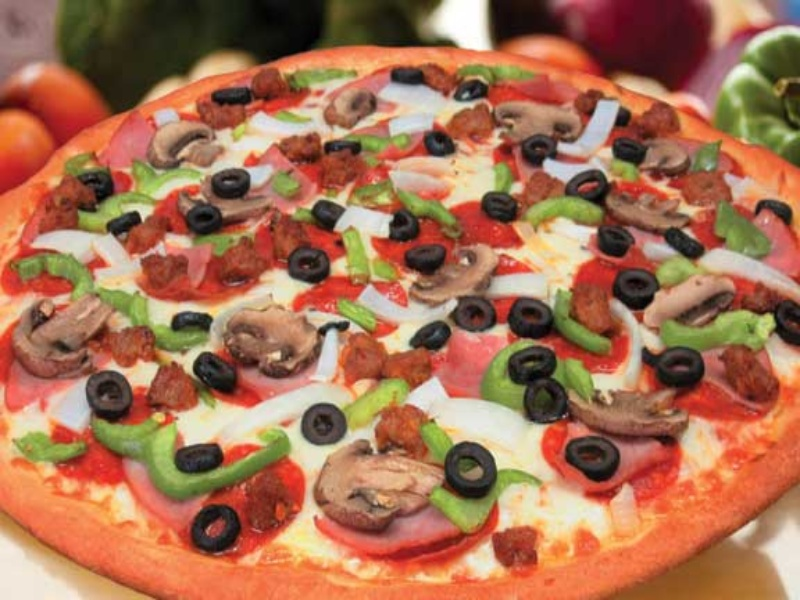olive noir: (440, 434, 499, 501), (560, 438, 628, 484), (650, 345, 713, 392), (188, 500, 242, 554), (81, 372, 136, 421), (299, 399, 350, 447), (447, 294, 504, 335), (192, 350, 243, 394), (616, 263, 661, 306), (284, 243, 330, 282), (209, 165, 252, 203), (480, 187, 521, 226), (513, 293, 550, 336), (178, 443, 223, 477), (595, 218, 636, 255), (183, 203, 228, 235), (402, 244, 447, 271), (415, 321, 452, 353), (521, 134, 559, 165)
